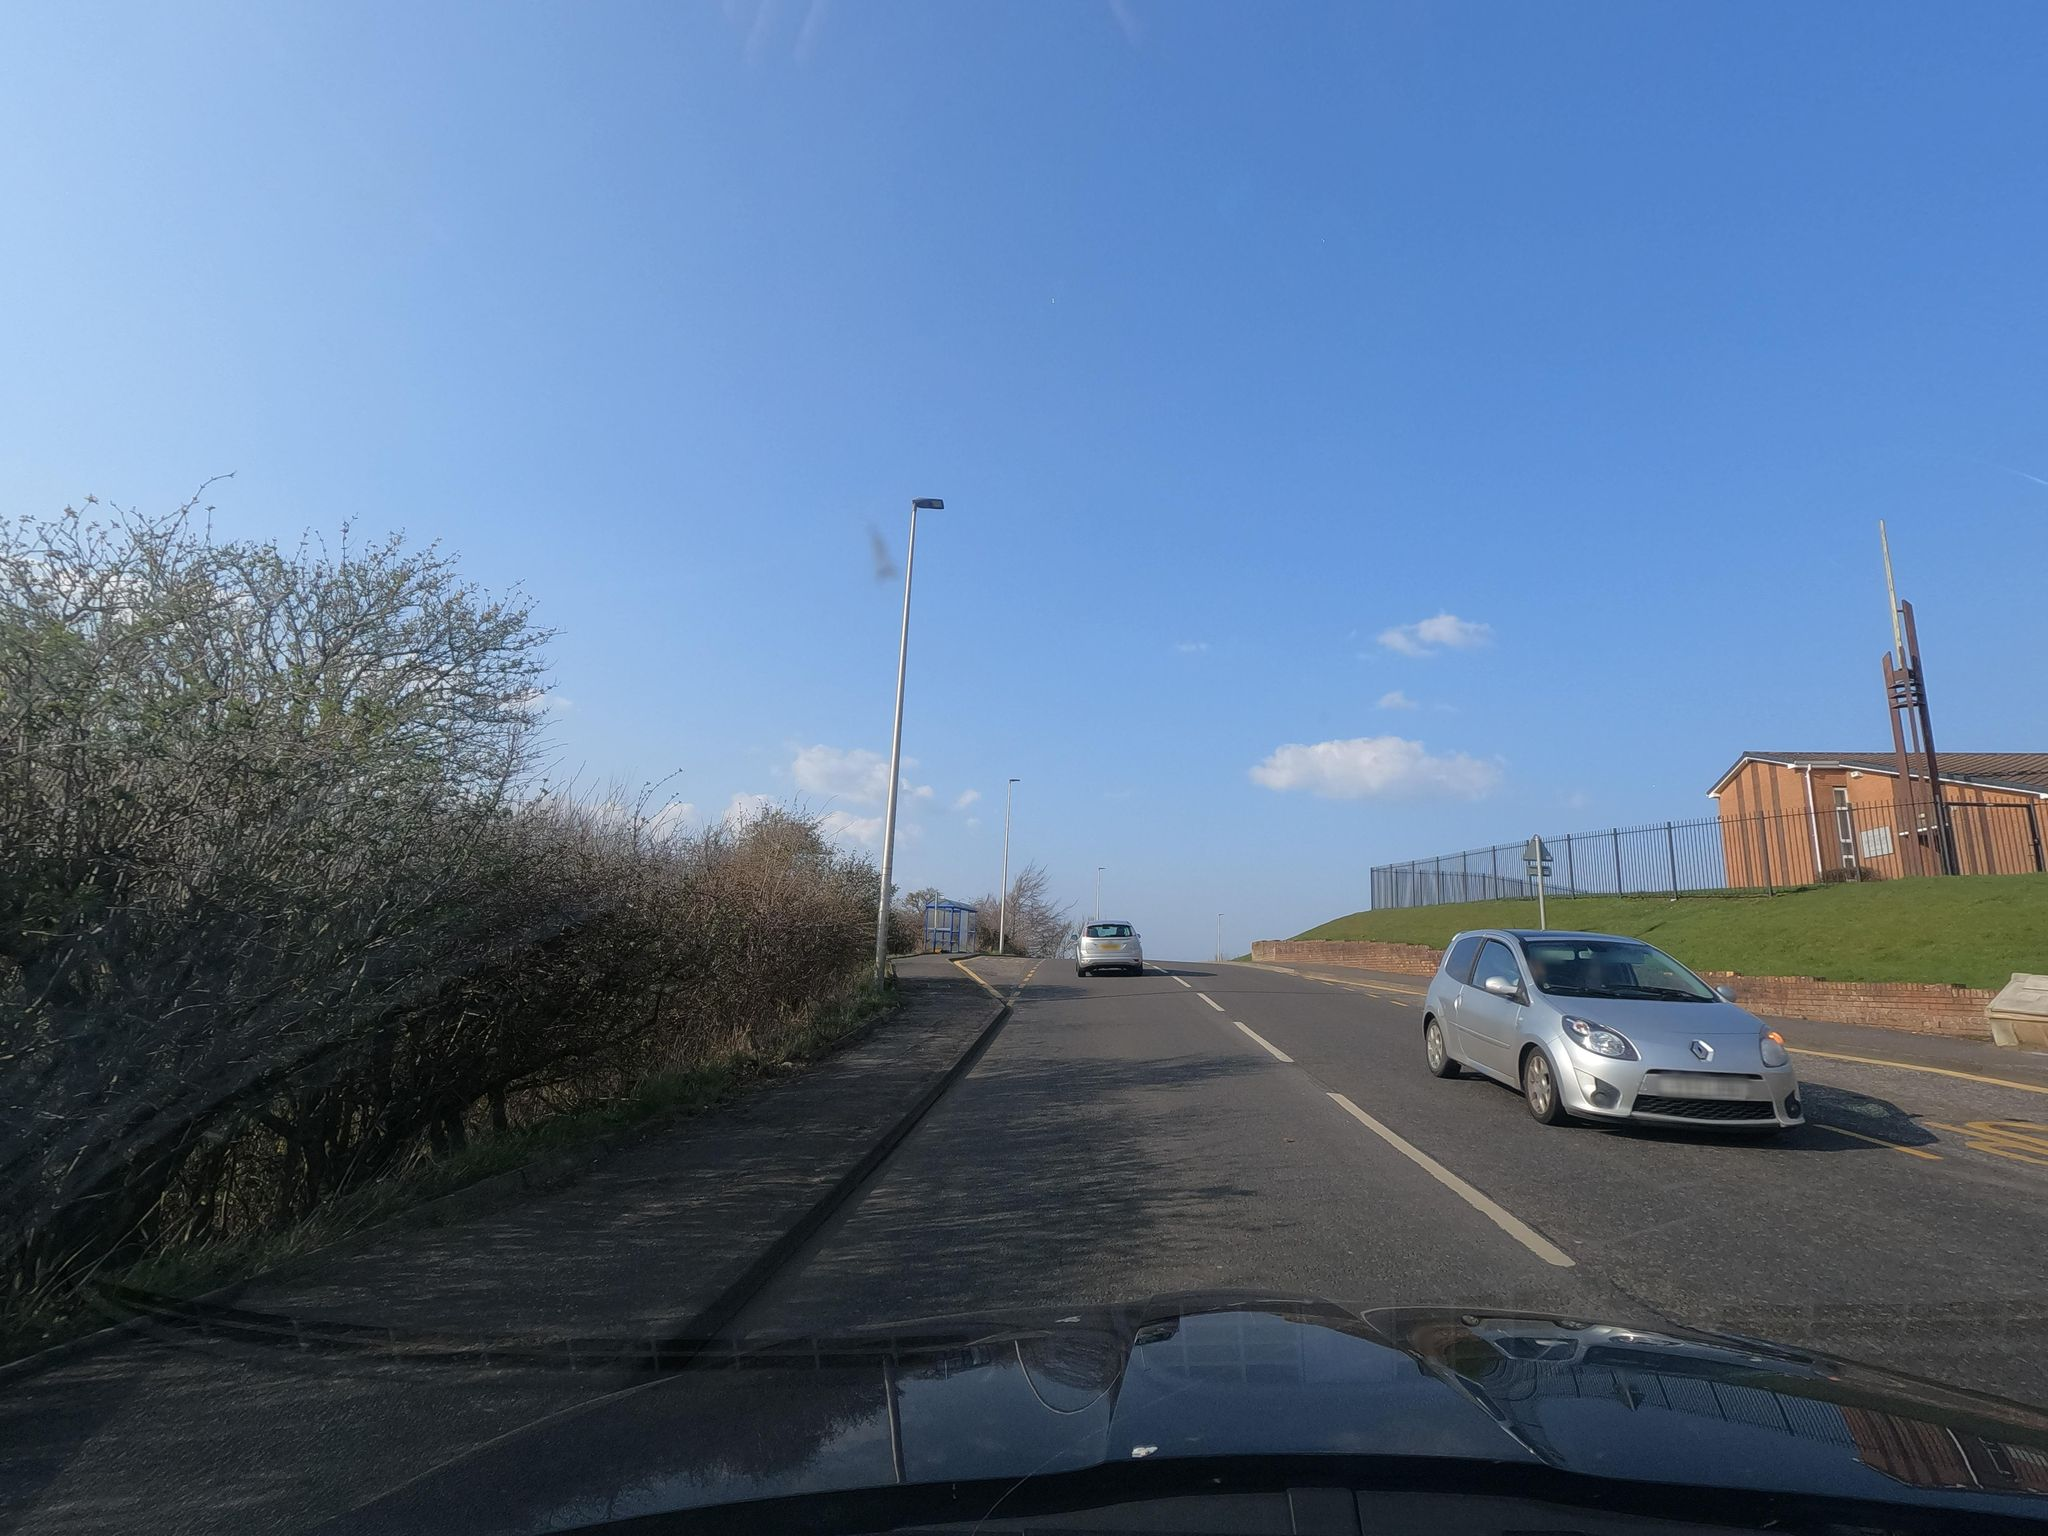car: (1421, 926, 1806, 1134), (1071, 920, 1143, 978)
